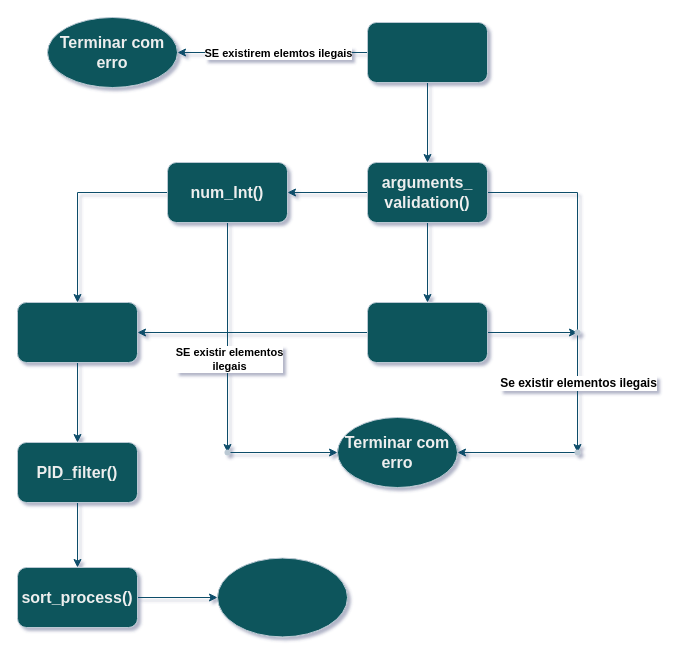
The diagram is 680 pixels wide and 661 high, and some of its shapes have lost their labels. Each missing label, with the centre of its shape:
"listar_ processos()" goes at [77,332].
"main()" goes at [427,52].
"Terminado com sucesso" goes at [282,597].
"validate_date()" goes at [427,332].
